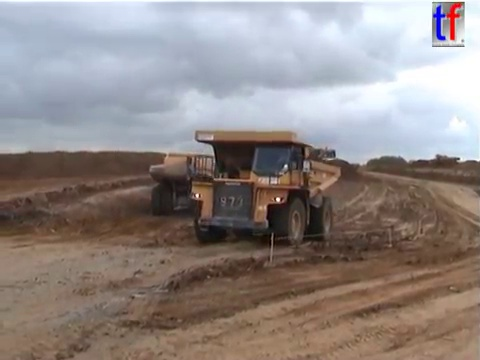excavator: (257, 140, 338, 166)
truck: (184, 128, 344, 247), (147, 151, 230, 216)
